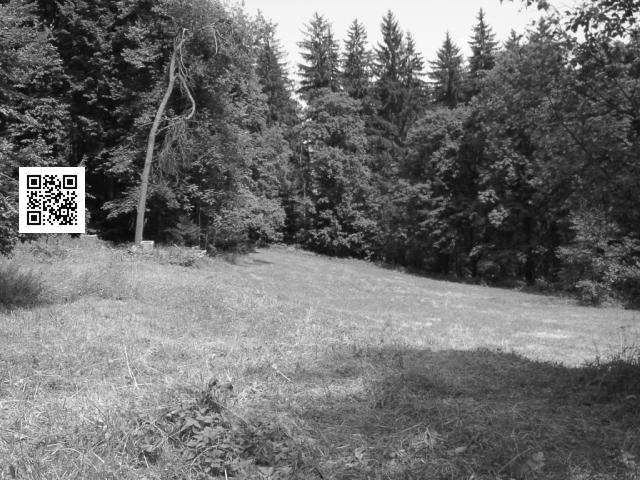qr_code: (19, 167, 85, 233)
